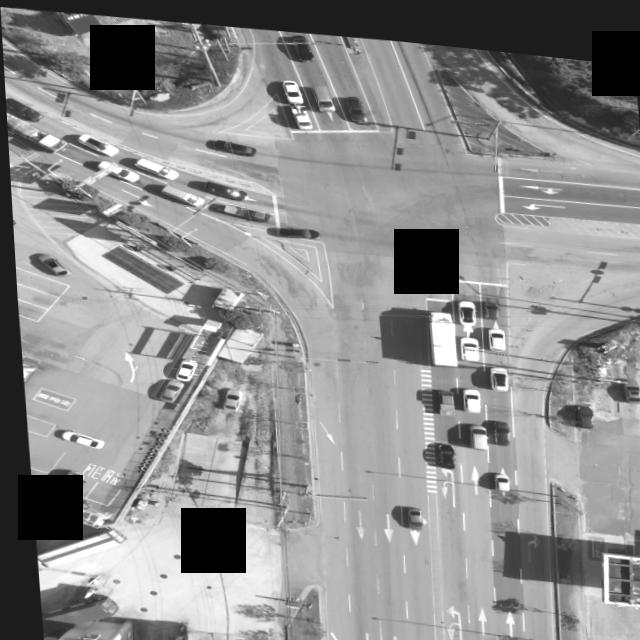car: (131, 152, 177, 176), (158, 180, 205, 203), (74, 130, 117, 154), (98, 157, 139, 180), (4, 94, 39, 120), (204, 132, 255, 149), (200, 174, 243, 194), (36, 254, 69, 278), (50, 468, 81, 492), (56, 429, 98, 446), (271, 220, 317, 235), (290, 28, 313, 55), (312, 78, 334, 106), (153, 375, 178, 399), (431, 434, 451, 462), (279, 75, 301, 100), (455, 325, 476, 351), (343, 88, 363, 115), (464, 412, 483, 440), (171, 355, 194, 378), (485, 356, 505, 381), (454, 290, 473, 316), (486, 409, 505, 435), (217, 382, 238, 405), (457, 377, 476, 402), (571, 392, 590, 416), (483, 317, 502, 340), (400, 497, 418, 521), (621, 370, 638, 391), (487, 462, 504, 481), (478, 291, 494, 310)
medium_truck: (30, 522, 125, 574), (5, 111, 70, 149), (421, 299, 453, 357)
small_truck: (219, 196, 267, 219), (432, 380, 451, 406), (291, 101, 311, 123)
